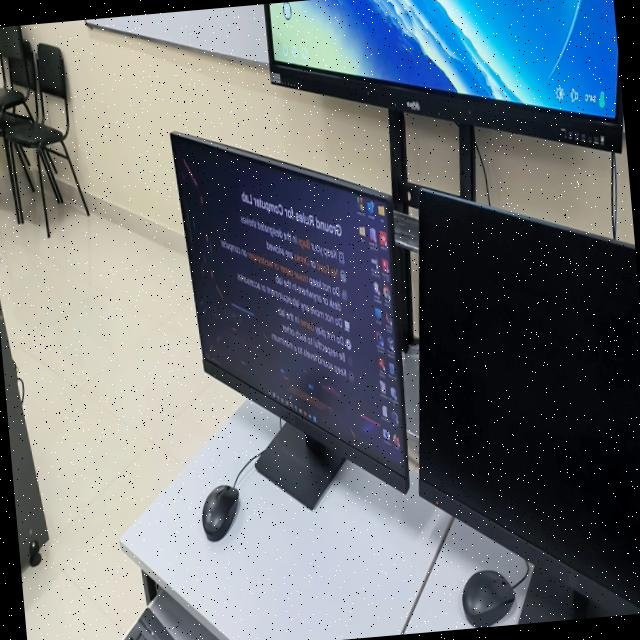Chair: (2, 43, 89, 237), (0, 25, 36, 137)
Digital board: (264, 0, 623, 253)
Keyboard: (122, 607, 176, 640)
Monitor: (418, 190, 640, 624), (171, 134, 409, 510)
Mouse: (462, 571, 515, 628), (202, 484, 239, 541)
